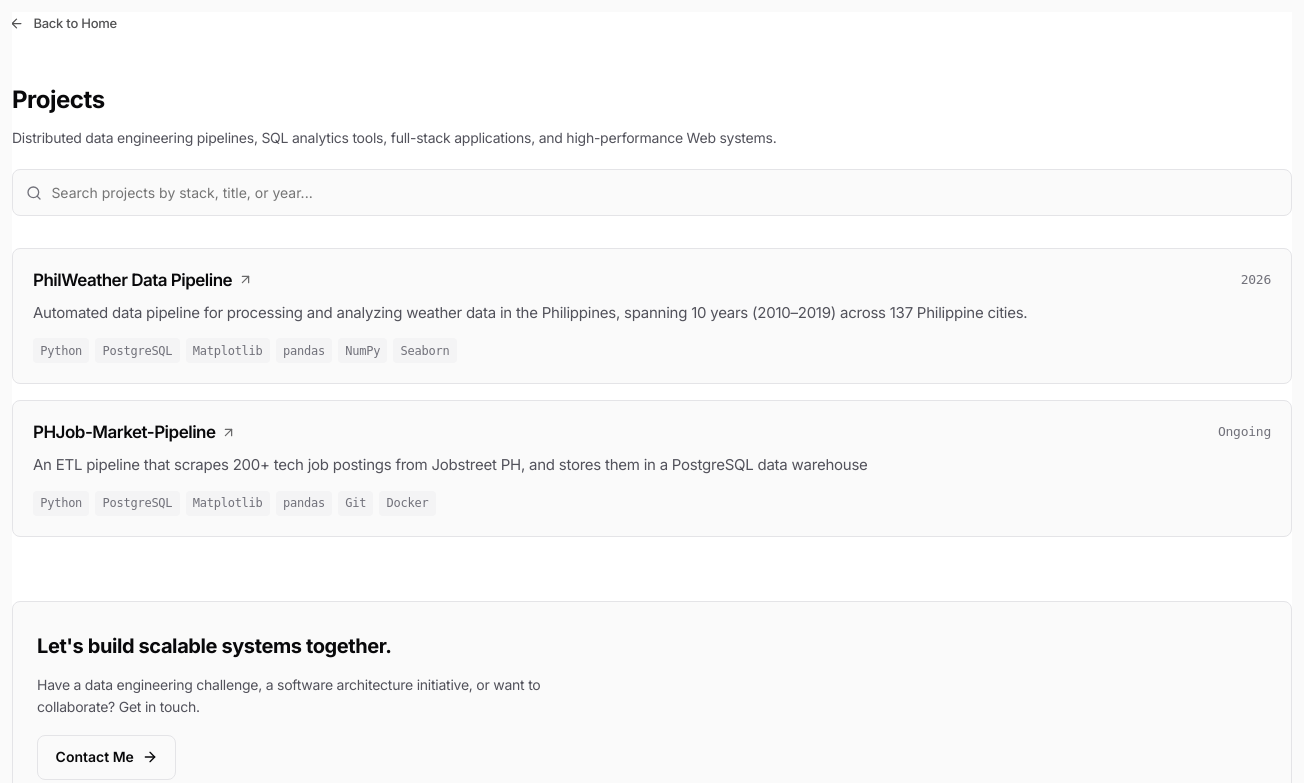
Test: Project Listing Pages (Phase 6) › Dev Projects Page › filters projects by search input and clears filter
This screenshot has width=1304, height=783.
Type "PhilWeather" into the field with placeholder "Search projects by stack, title, or year...". click: (652, 193)
box: [12,169,1292,216]
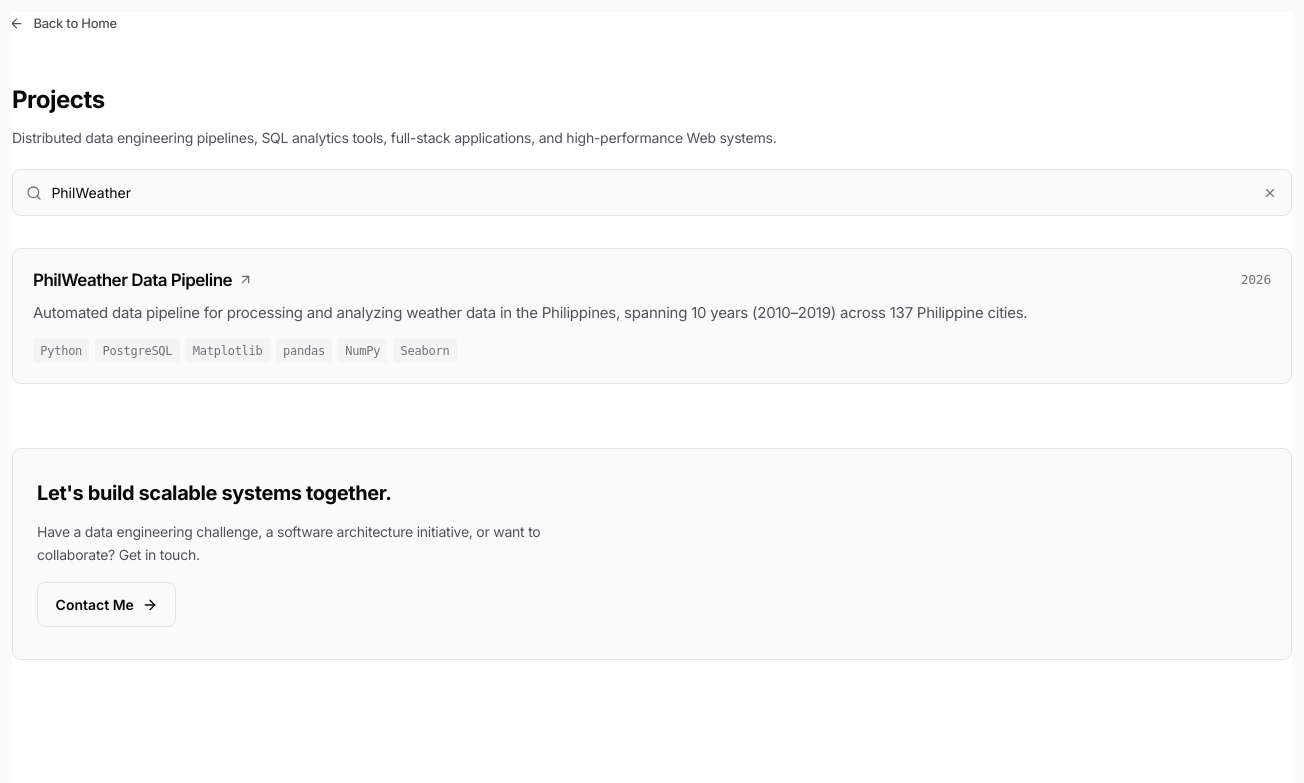
expect the text "PhilWeather Data Pipeline" is shown: met, box [33,270,232,290]
Replace the text in the field with placeholder "Search projects by stack, title, or year..." with "ZeroMatchXYZ". click: (652, 193)
box: [12,169,1292,216]
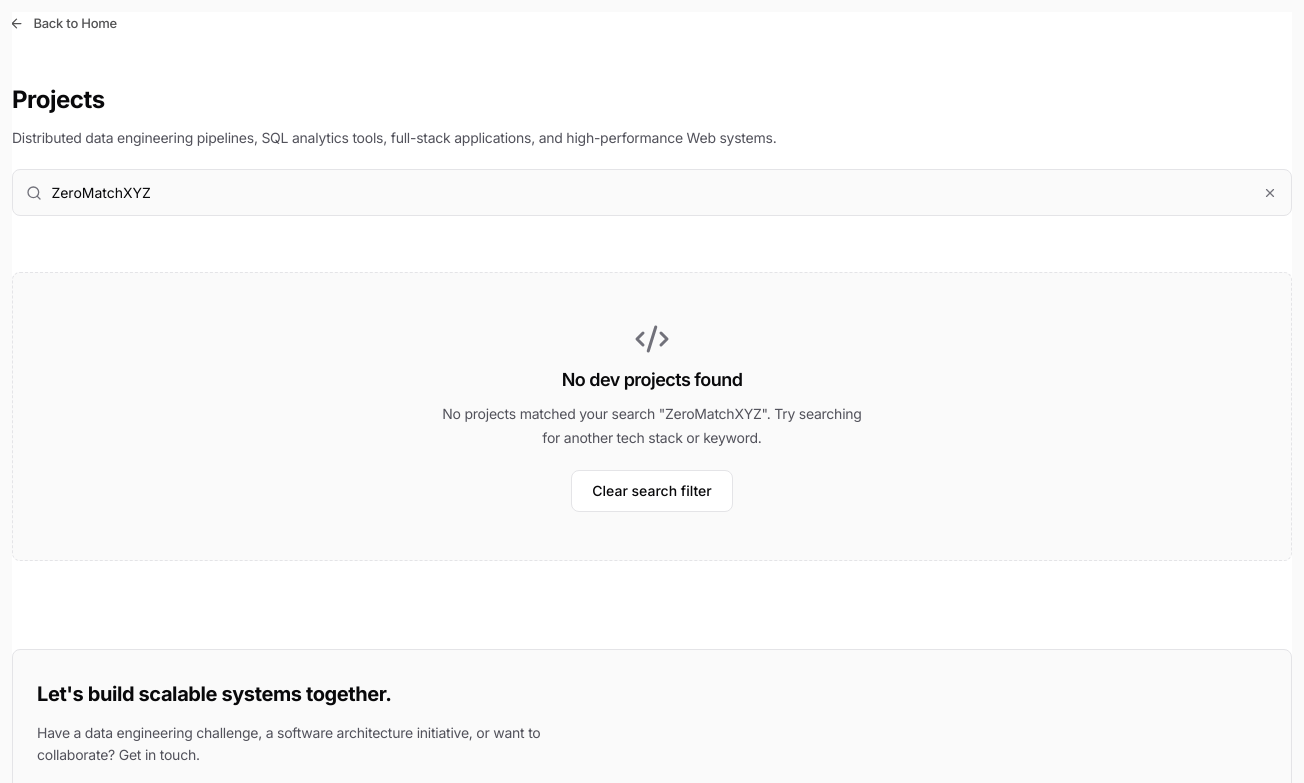
expect the heading "No dev projects found" is shown: met, box [562,369,742,390]
expect the button "Clear search filter" is shown: met
Click the button "Clear search filter". click: (652, 491)
box: [571,470,733,512]
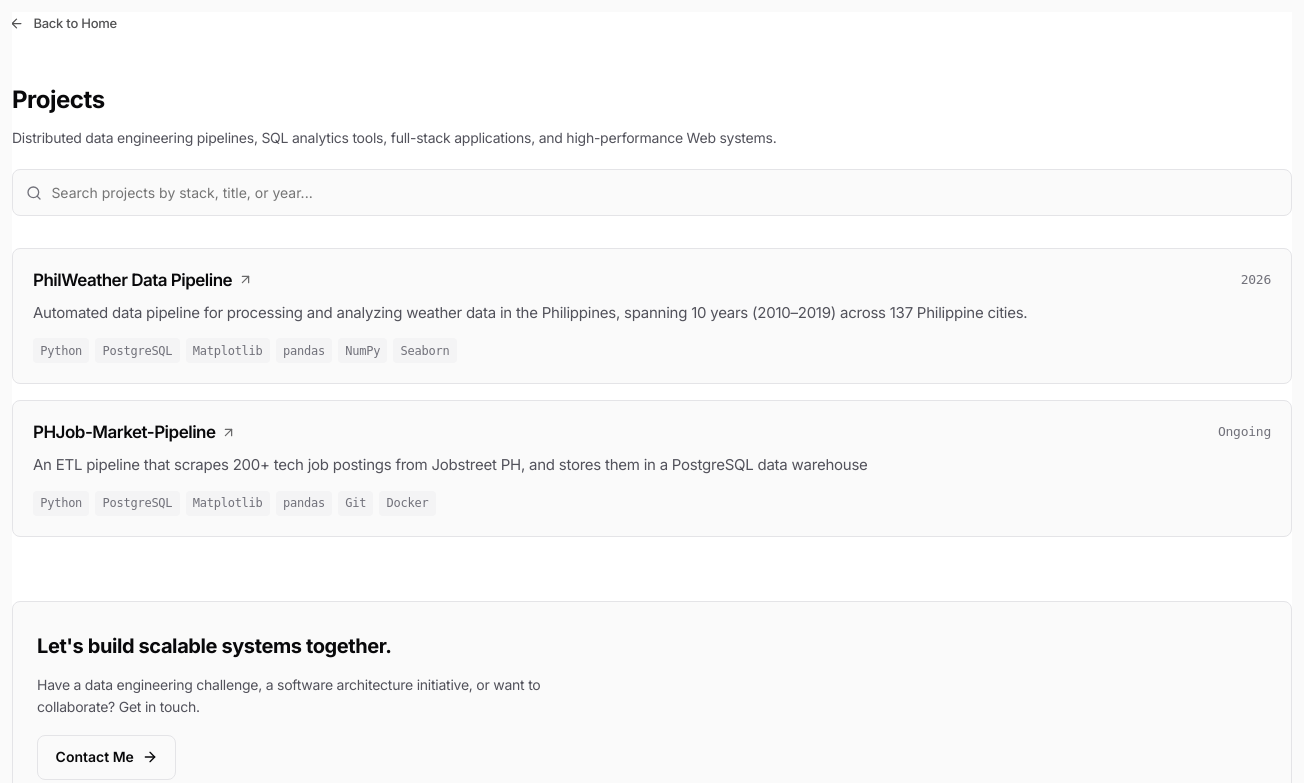
expect the text "PhilWeather Data Pipeline" is shown: met, box [33,270,232,290]
